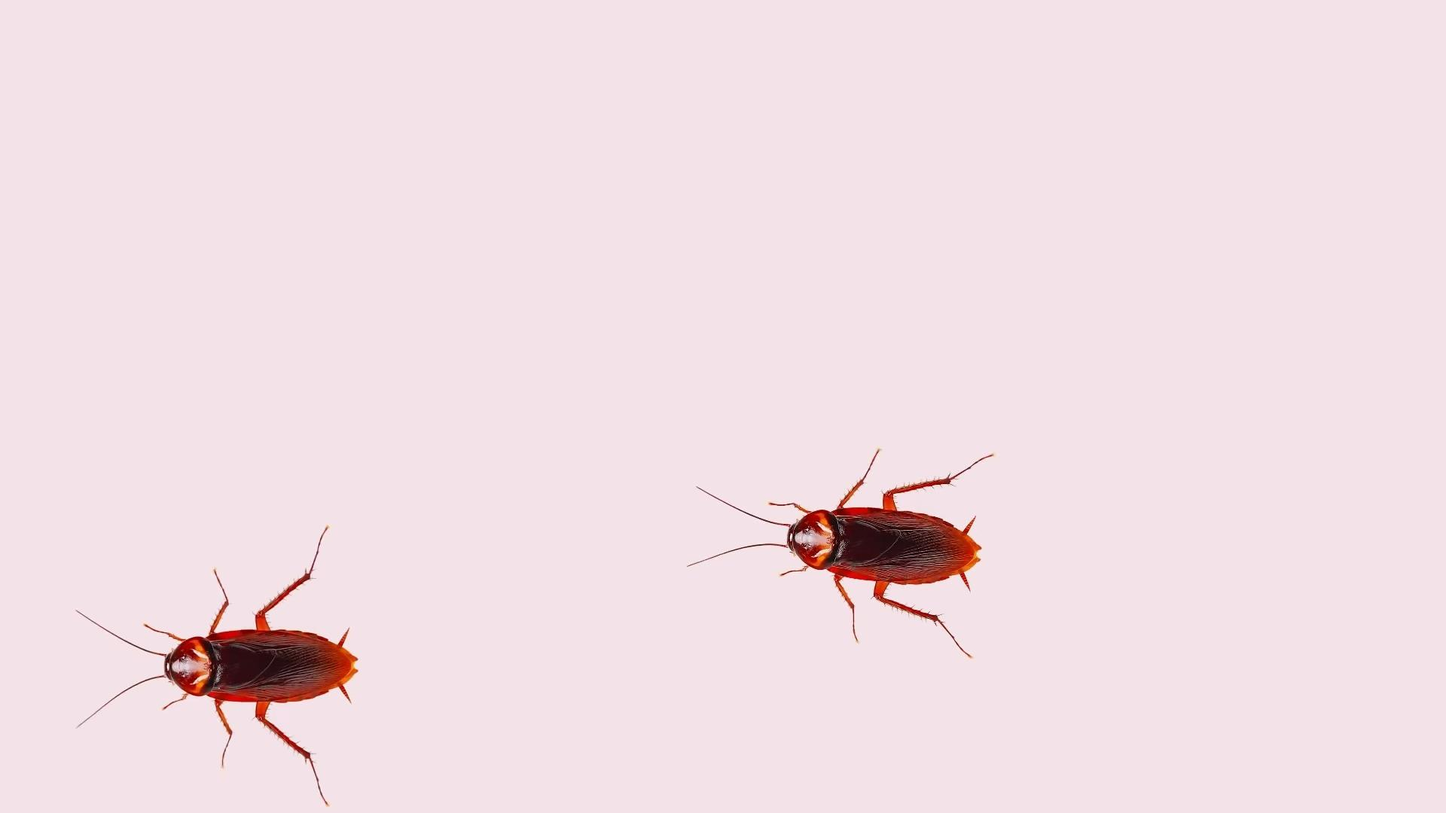cockroach: (74, 526, 364, 807), (680, 437, 998, 661)
